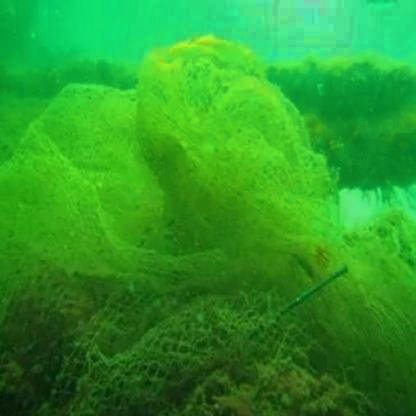net: (30, 85, 318, 376)
